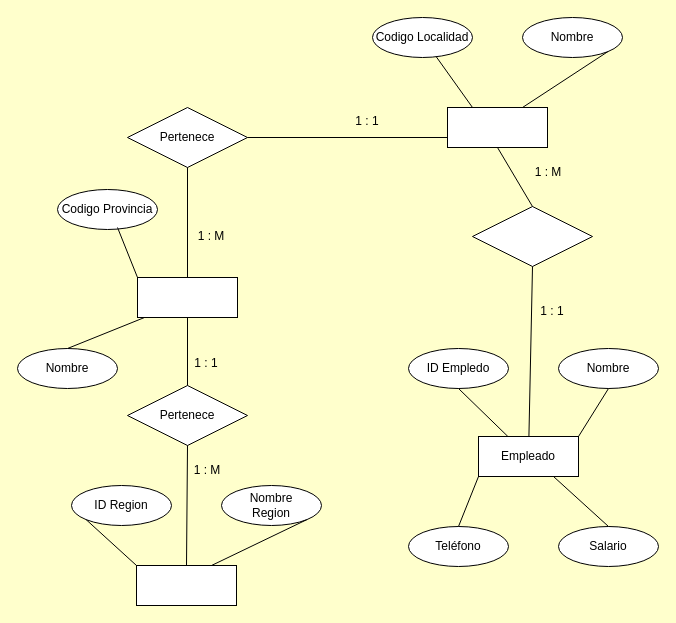
Some shapes in this 676 by 623 pixel diagram are drawn without their labels. Each missing label, with the centre of its shape:
Localidad: point 497,127
Nacido: point 532,236
Provincia: point 187,297
Region: point 186,585
